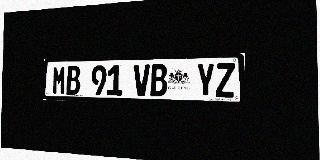1: (107, 65, 122, 96)
9: (91, 65, 107, 95)
B: (150, 64, 167, 96), (66, 66, 80, 95)
M: (52, 66, 66, 95)
V: (133, 64, 150, 96)
Y: (196, 63, 215, 97)
Z: (215, 63, 235, 98)
